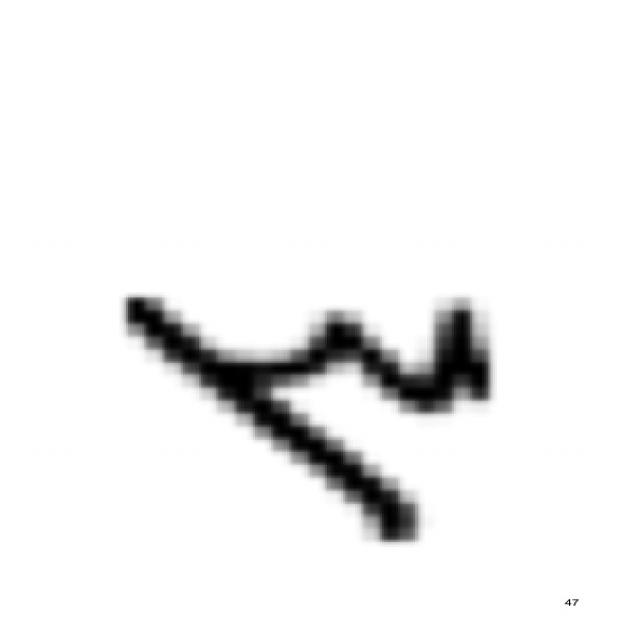3 -three-: (97, 280, 504, 552)
